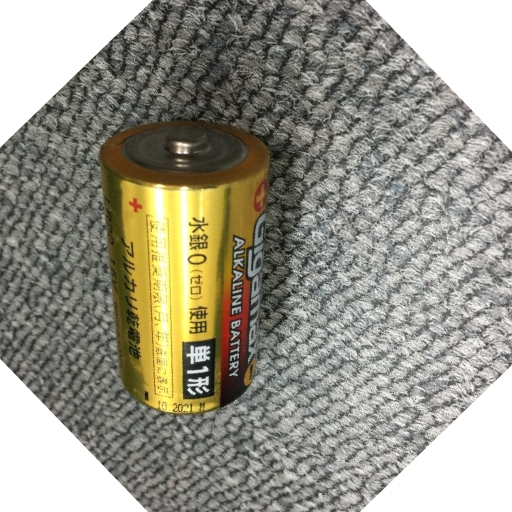Battery_0: (93, 114, 278, 423)
